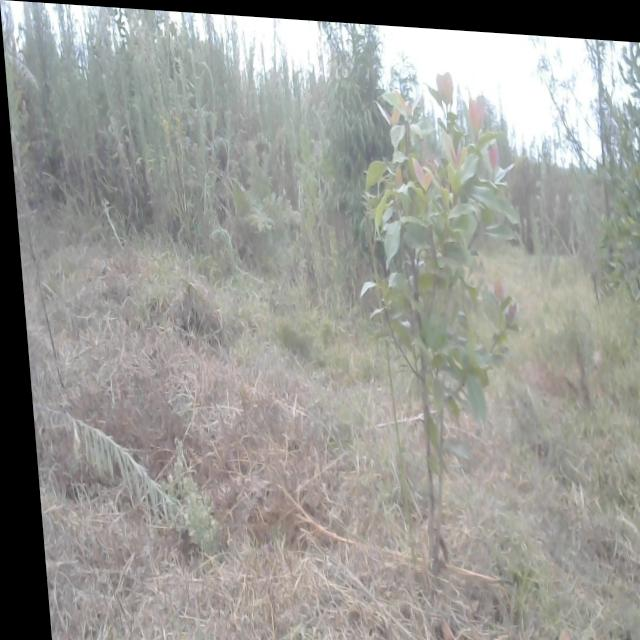Lemon Myrtle: (355, 51, 524, 541)
